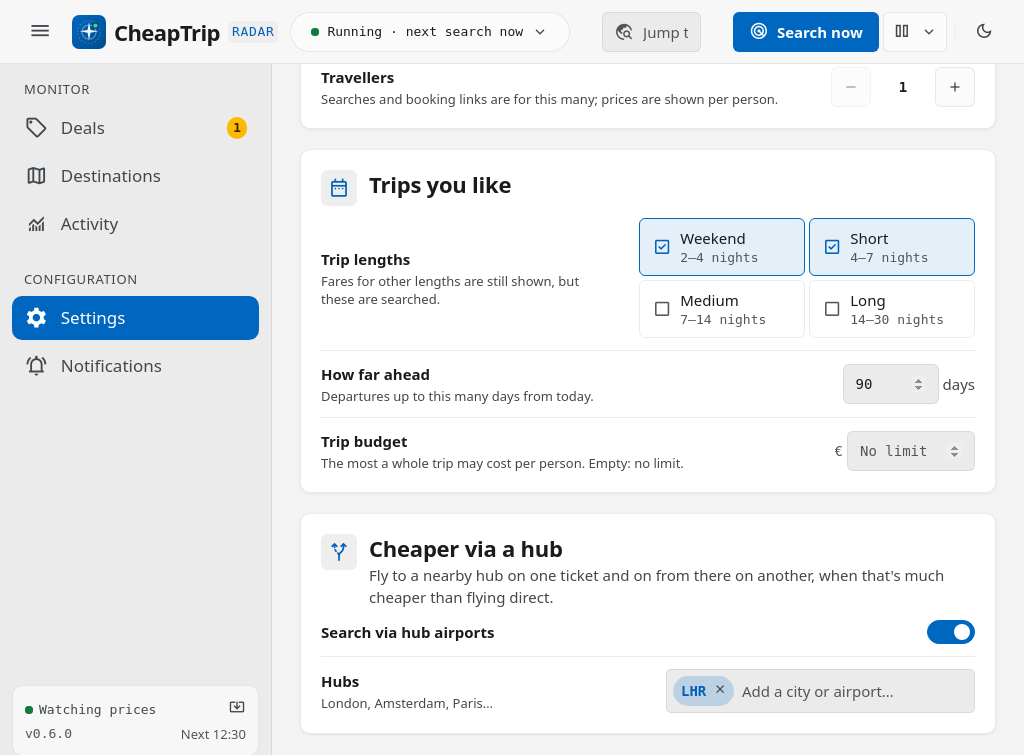
Test case: Settings › puts the saved value back when the engine refuses it
(page scrolled)
Step 1. Replace the text in the number field named "How far ahead" with "120" → x=890, y=384, box x1=842 y1=364 x2=938 y2=404
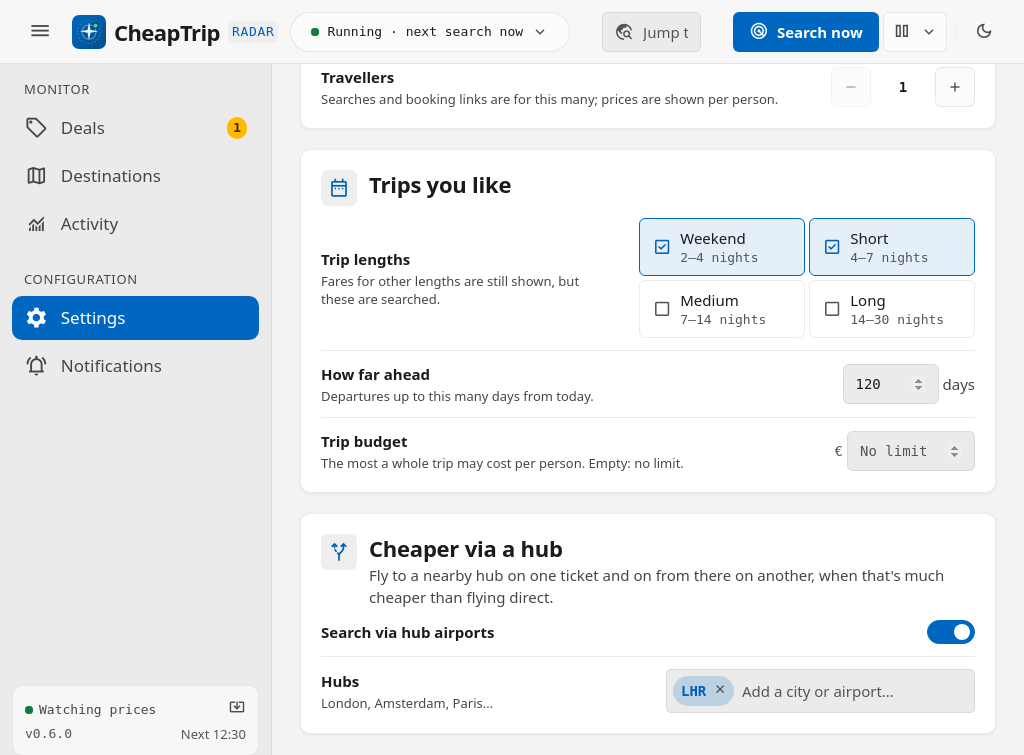
Step 2. Leave the number field named "How far ahead", box x1=842 y1=364 x2=938 y2=404
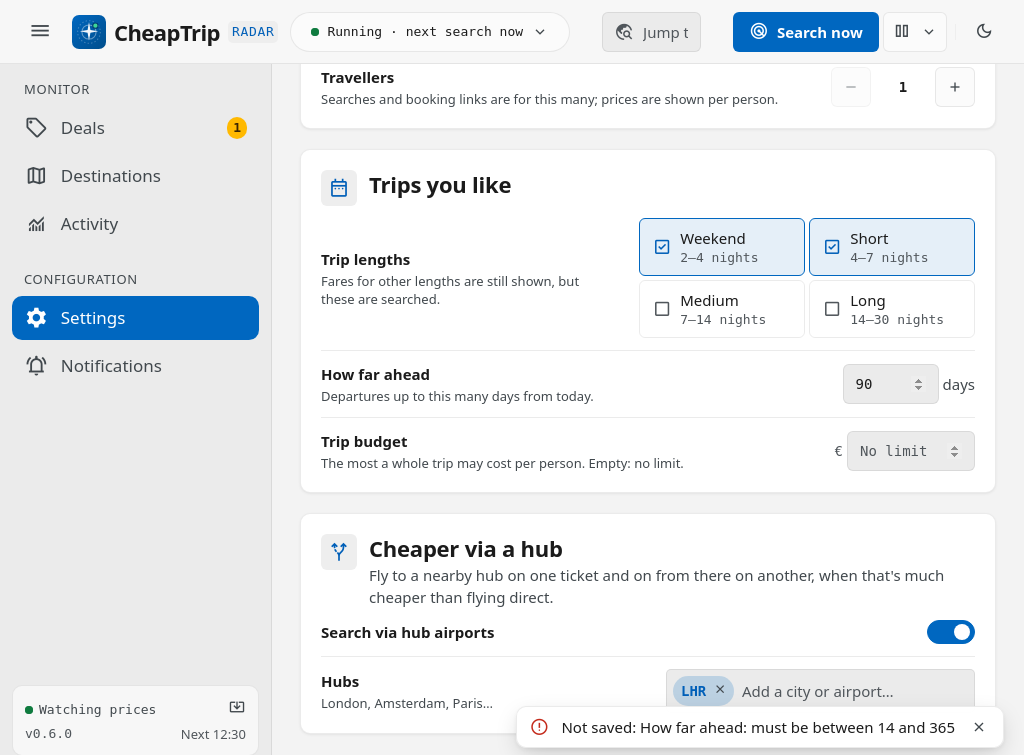
Check: the text "Not saved: How far ahead: must be between 14 and 365" is shown, box x1=562 y1=716 x2=955 y2=738
Check: the number field named "How far ahead" holds "90", box x1=842 y1=364 x2=938 y2=404
